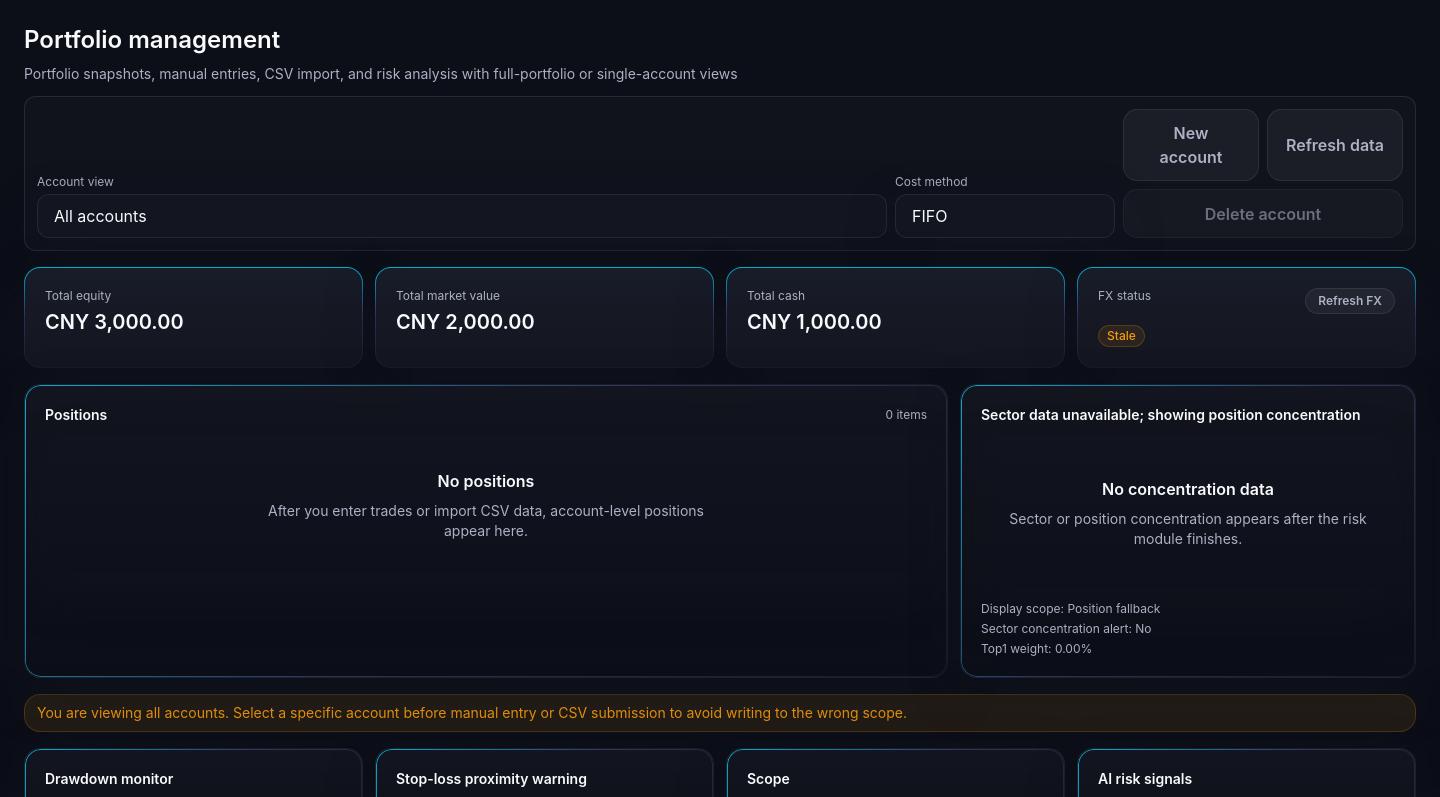
Test: PortfolioPage FX refresh › refreshes FX for the full portfolio without sending accountId and shows neutral feedback when no pair exists
Click the button "Refresh FX" at (1350, 301), box [1305,288,1395,314]
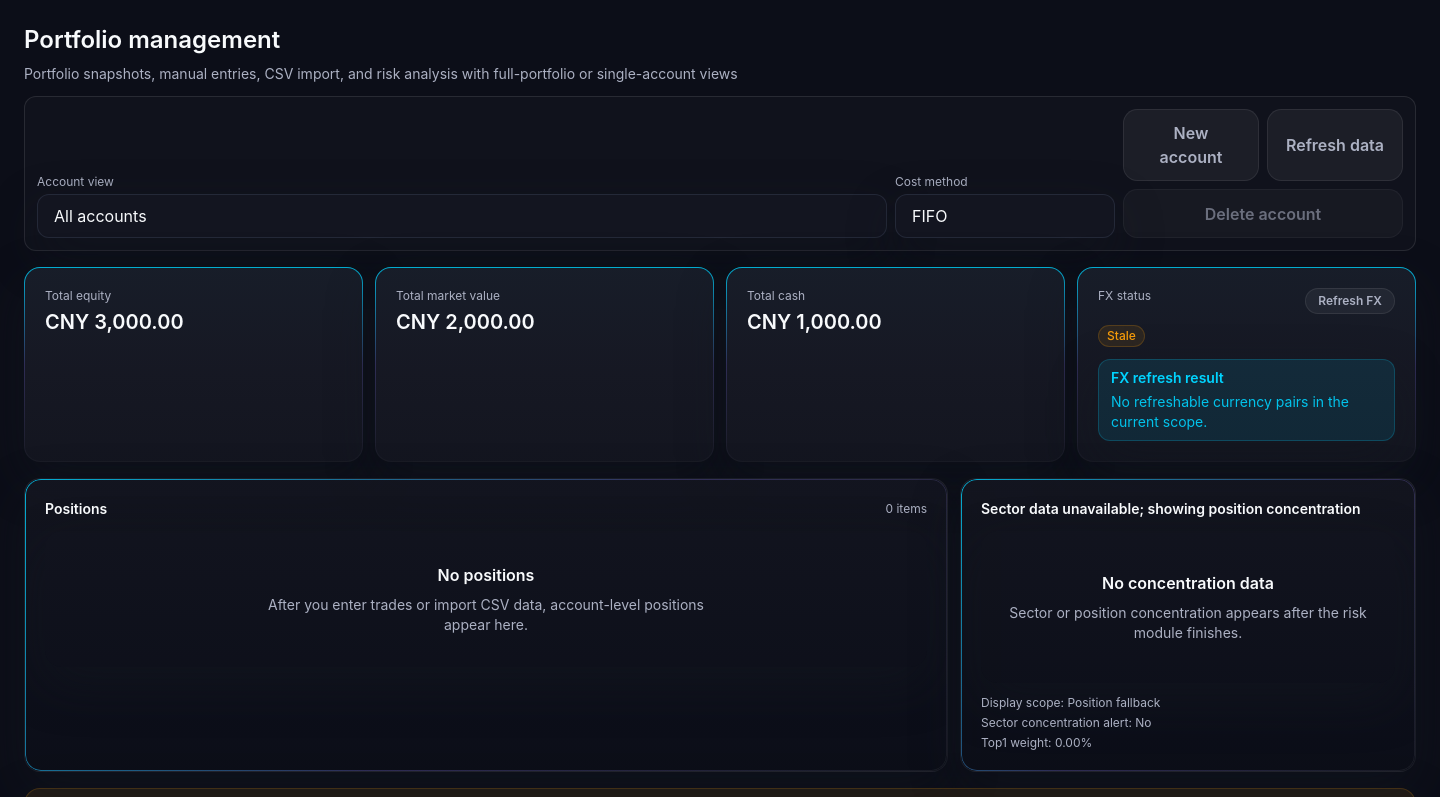
expect the text "No refreshable currency pairs in the current scope." is shown: met, box [1111,392,1382,432]
